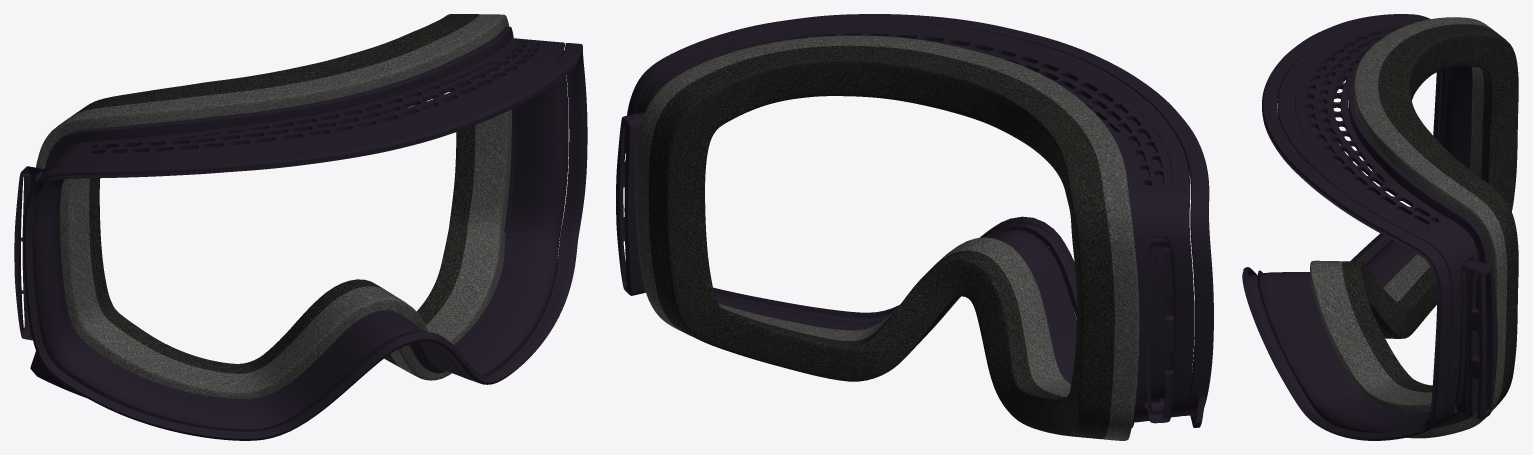
File: FRAME_XPR_MOEX023_002.glb
3 renders of one model, left to right at view 1: azimuth 30°, elevation 25°; view 2: azimuth 150°, elevation 25°; view 3: azimuth 270°, elevation 25°, orthographic. The views are drawn at different scales.
Parts seen in each view (by area): view 1: Full_rim_geometry, Frame-Add_Frame-02_geometry_geometry, Frame-Add_Frame-01_geometry_geometry, EXTRA_RIM_BEVEL; view 2: Frame-Add_Frame-02_geometry_geometry, Full_rim_geometry, Frame-Add_Frame-01_geometry_geometry, EXTRA_RIM_BEVEL; view 3: Full_rim_geometry, Frame-Add_Frame-02_geometry_geometry, Frame-Add_Frame-01_geometry_geometry, EXTRA_RIM_BEVEL.
Part boxes in pixels (bbox=[...]): Full_rim_geometry: bbox=[14, 26, 587, 440]; Frame-Add_Frame-02_geometry_geometry: bbox=[36, 14, 511, 398]; Frame-Add_Frame-01_geometry_geometry: bbox=[80, 39, 547, 157]; EXTRA_RIM_BEVEL: bbox=[27, 55, 586, 436]; Frame-Add_Frame-02_geometry_geometry: bbox=[635, 35, 1149, 440]; Full_rim_geometry: bbox=[616, 14, 1213, 427]; Frame-Add_Frame-01_geometry_geometry: bbox=[685, 28, 1171, 191]; EXTRA_RIM_BEVEL: bbox=[713, 216, 1076, 316]; Full_rim_geometry: bbox=[1242, 14, 1497, 440]; Frame-Add_Frame-02_geometry_geometry: bbox=[1310, 17, 1518, 438]; Frame-Add_Frame-01_geometry_geometry: bbox=[1295, 23, 1447, 228]; EXTRA_RIM_BEVEL: bbox=[1243, 70, 1441, 437].
Size of the model in its own units: 0.1788 by 0.0982 by 0.0841.
Materials: 1 (1 with a texture image).
